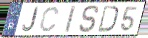5: (120, 5, 140, 32)
C: (38, 6, 60, 33)
D: (97, 5, 120, 33)
I: (64, 5, 77, 34)
J: (21, 6, 40, 33)
S: (78, 4, 100, 34)
